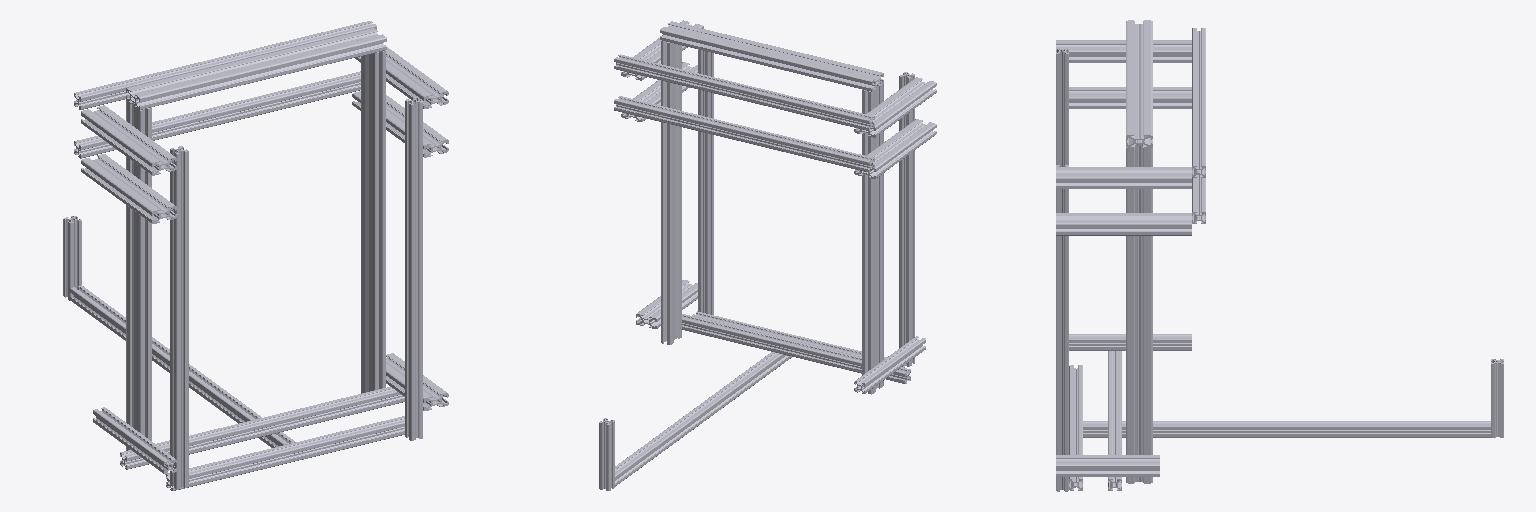
The robot description file, URDF, robot "framemodel":
<?xml version="1.0"?>
<robot name="framemodel">
  
  <!-- Dummy root link for TF connection -->
  <link name="framemodel_root"/>
  
  <link name="framemodel">
    <visual>
      <geometry>
        <mesh filename="package://main_arm_control/meshes/framemodel.stl" scale="0.01 0.01 0.01"/>
      </geometry>
      <material name="aluminum">
        <color rgba="0.8 0.8 0.85 1.0"/>
      </material>
    </visual>
  </link>

  <joint name="root_to_frame" type="fixed">
    <parent link="framemodel_root"/>
    <child link="framemodel"/>
    <origin xyz="0 0 0" rpy="0 0 0"/>
  </joint>

  <!-- Parachute bag -->
  <!-- <link name="parachute_bag">
    <visual>
      <geometry>
        <mesh filename="package://main_arm_control/meshes/parachute_bag.stl" scale="0.5 0.5 0.5"/>
      </geometry>
      <material name="fabric">
        <color rgba="0.2 0.4 0.2 1.0"/>  <!- - greenish - ->
      </material>
    </visual>
  </link>

  <joint name="bag_to_frame" type="fixed">
    <parent link="framemodel"/>
    <child link="parachute_bag"/>
    <origin xyz="-0.17 0.13 -0.22" rpy="-1.458 0 0"/>  <!- - Position relative to frame - ->
  </joint> --> 

</robot>

--- What the picture shows (computed from the rendered views, not written in the file) ---
Views: 3 orthographic renders of the robot side by side, from view 1: azimuth 30°, elevation 25°; view 2: azimuth 150°, elevation 25°; view 3: azimuth 270°, elevation 25°.
Robot: framemodel — 2 links, 1 joints (1 fixed); root link framemodel_root; default pose: every joint at zero.
Links seen in each view (by area): view 1: framemodel; view 2: framemodel; view 3: framemodel.
Boxes of the visible links, x1,y1,x2,y2 form: framemodel: [63, 21, 448, 490]; framemodel: [599, 20, 936, 490]; framemodel: [1056, 20, 1503, 491].
Size in the robot's own frame: 0.484 by 0.66 by 0.578 metres.
1 mesh visuals loaded from 1 distinct referenced files (1 binary STL).
